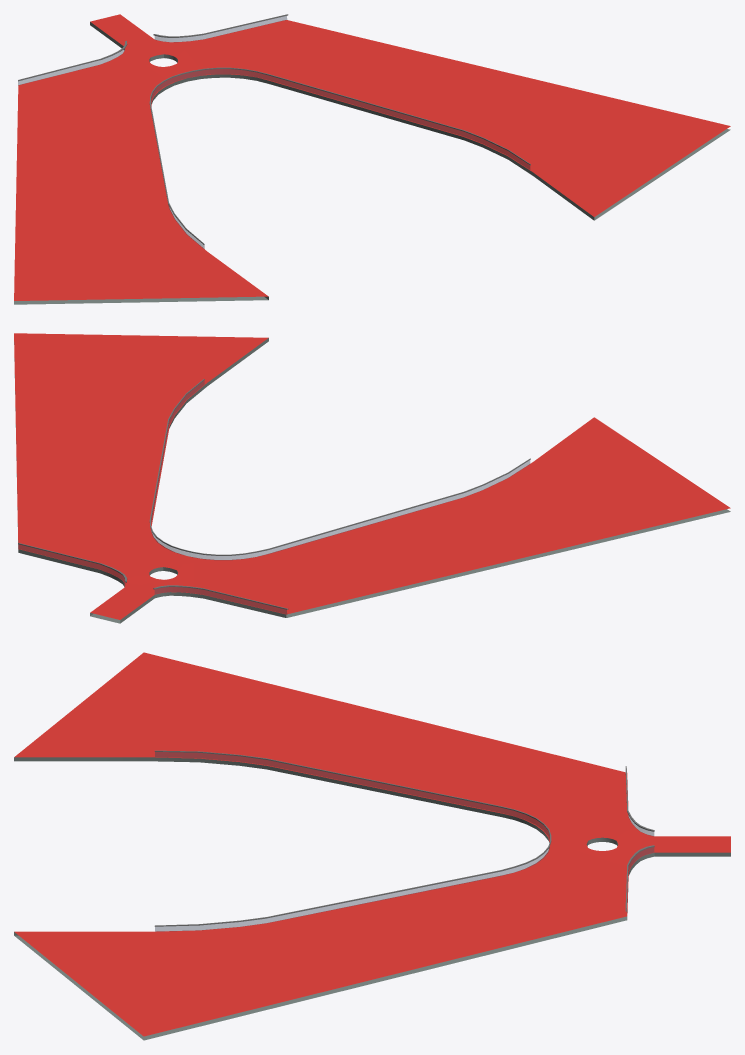
The model's file is Casino_FirstFloor.fbx.
The picture shows the model from 3 angles, top to bottom: view 1: azimuth 30°, elevation 25°; view 2: azimuth 150°, elevation 25°; view 3: azimuth 270°, elevation 25°; orthographic projection. The views are drawn at different scales.
Parts seen in each view (by area): view 1: Casino_FirstFloor; view 2: Casino_FirstFloor; view 3: Casino_FirstFloor.
Part boxes in pixels (x1,y1,x2,y2): Casino_FirstFloor: (14,14,730,304); Casino_FirstFloor: (14,333,730,623); Casino_FirstFloor: (14,652,730,1040).
Bounding box in the file's own units: 9648 × 125 × 7609.
